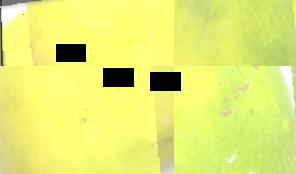PartiallyRipe: (0, 66, 174, 174), (174, 66, 296, 174), (174, 0, 296, 66)
Ripe: (1, 0, 174, 66)
